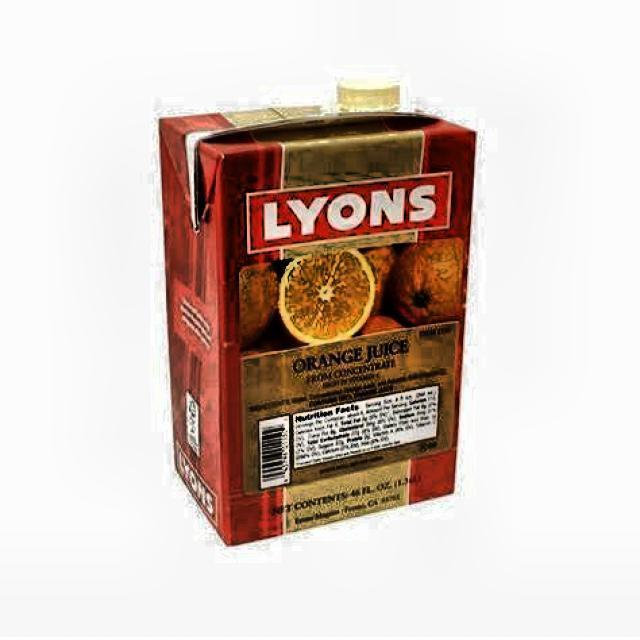cardboard: (156, 90, 478, 546)
